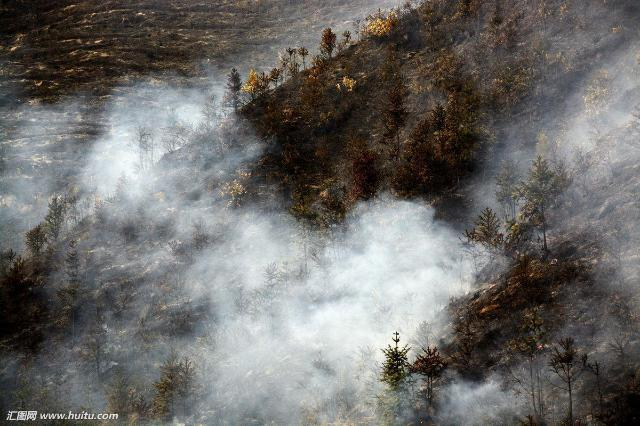smoke: (190, 322, 384, 422), (95, 78, 222, 230), (191, 199, 307, 319), (306, 252, 492, 323), (314, 193, 438, 253), (446, 373, 512, 423)
